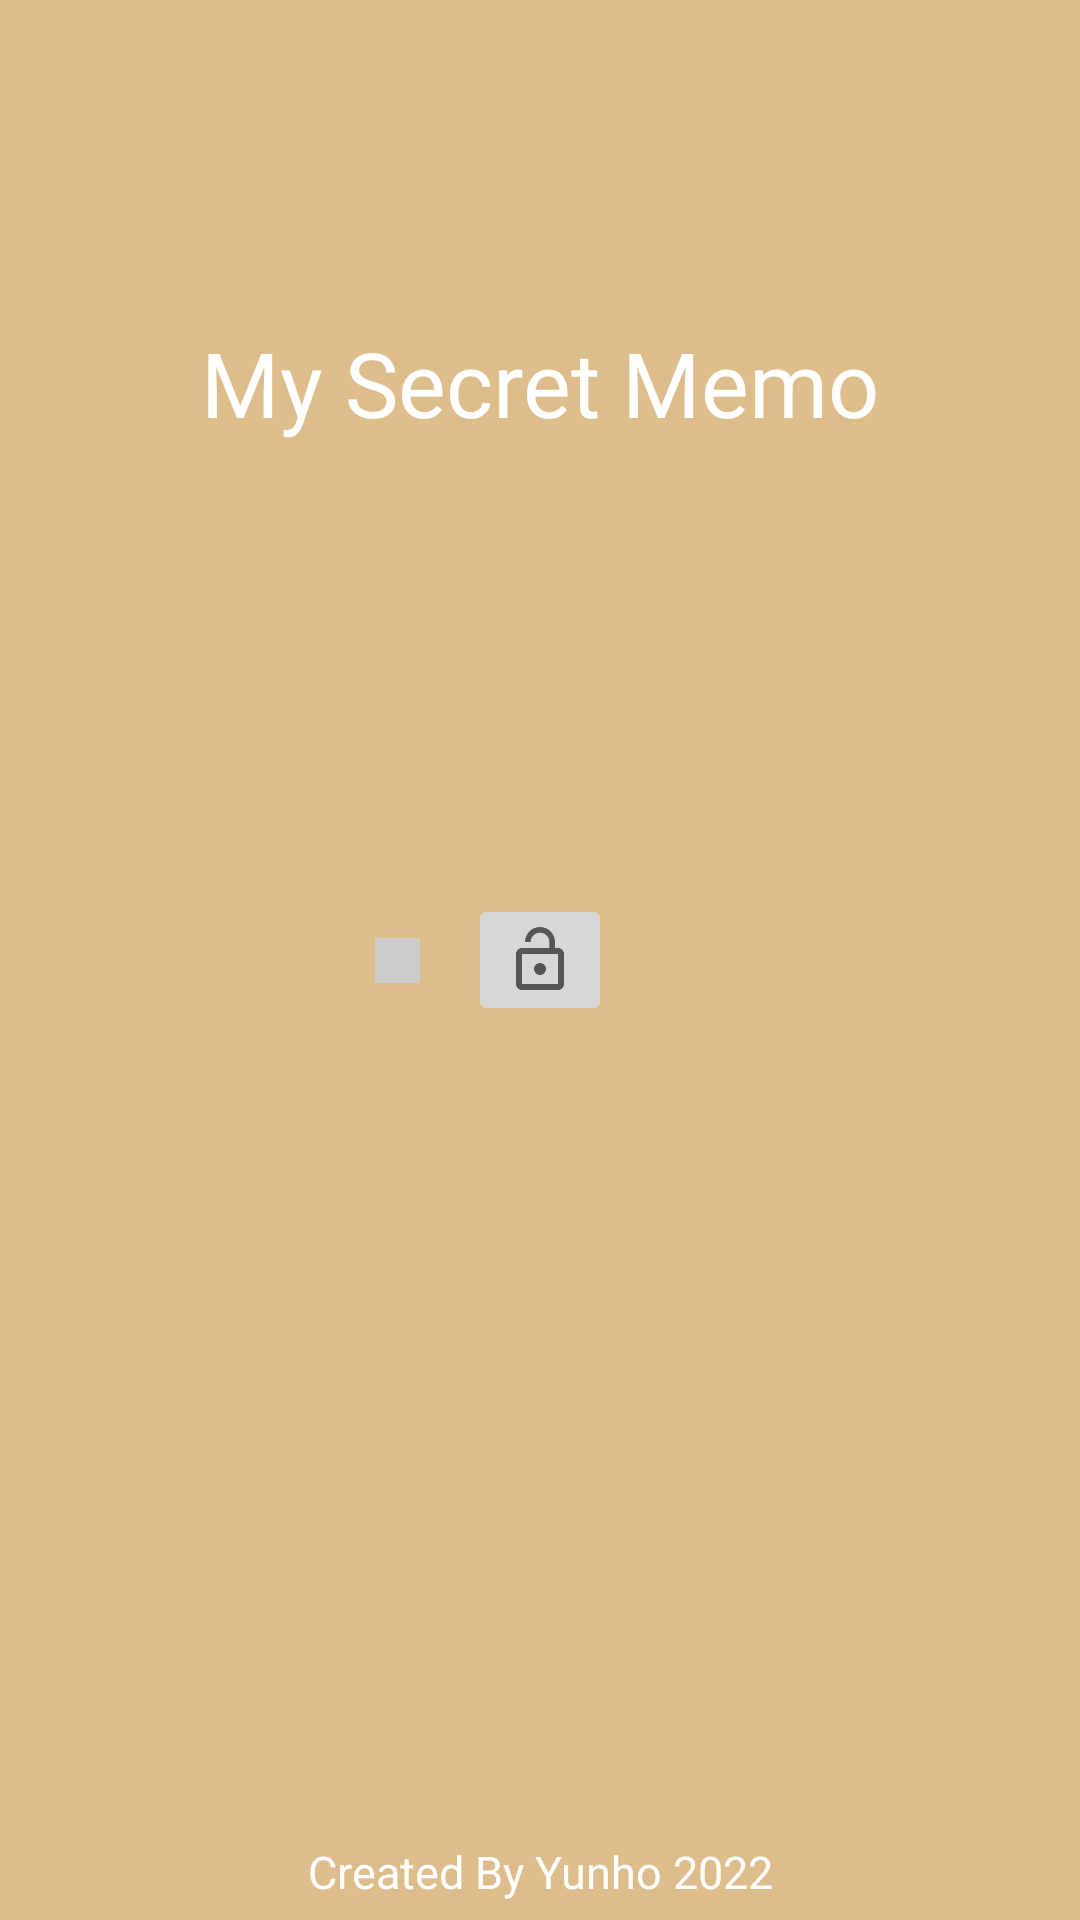

Where to tap for icons on this 1080px x 1920px app screen, as (x,y):
lock open: (540,960)
